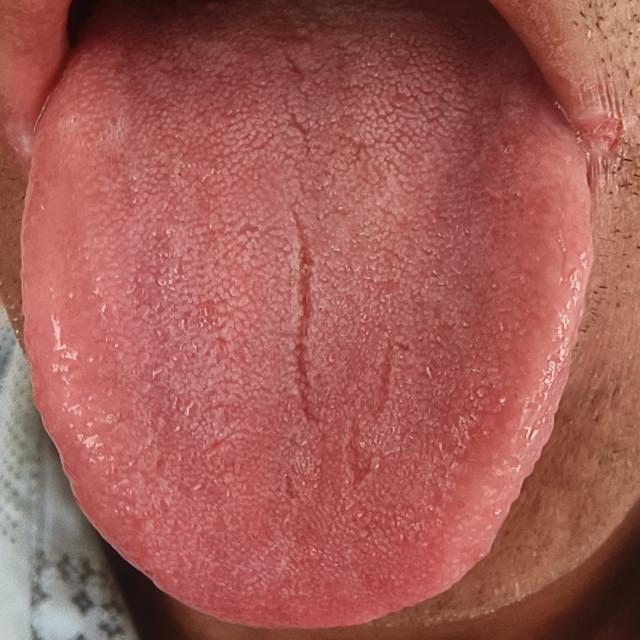processing_area: (20, 2, 601, 635)
